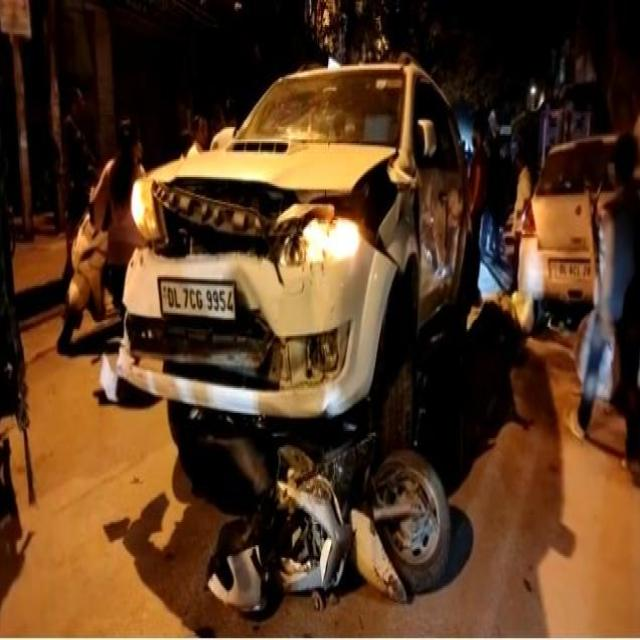accident: (118, 62, 469, 504), (208, 444, 449, 614)
